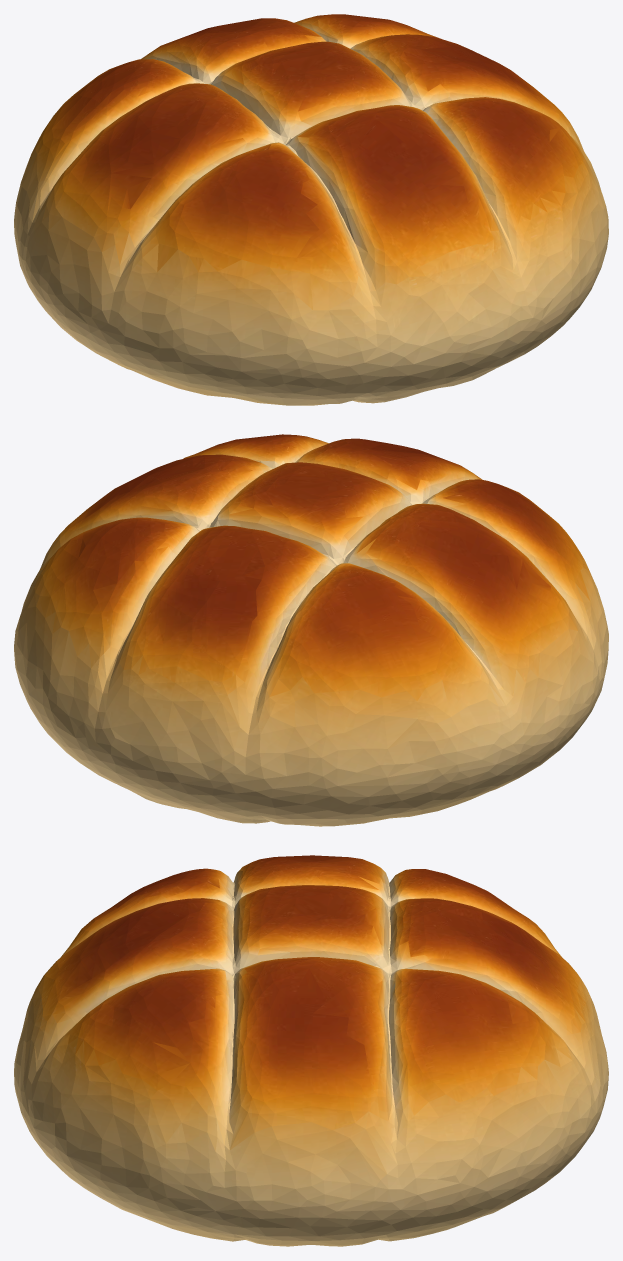
The model's file is bread.glb.
3 renders of one model, top to bottom at view 1: azimuth 30°, elevation 25°; view 2: azimuth 150°, elevation 25°; view 3: azimuth 270°, elevation 25°, orthographic.
Visible parts, largest first — view 1: bread; view 2: bread; view 3: bread.
Part boxes in pixels (x1,y1,x2,y2): bread: [14, 14, 608, 405]; bread: [14, 434, 608, 826]; bread: [14, 855, 608, 1246].
Size of the model in its own units: 1.9 by 0.9524 by 1.9.
1 material, 1 textured.
